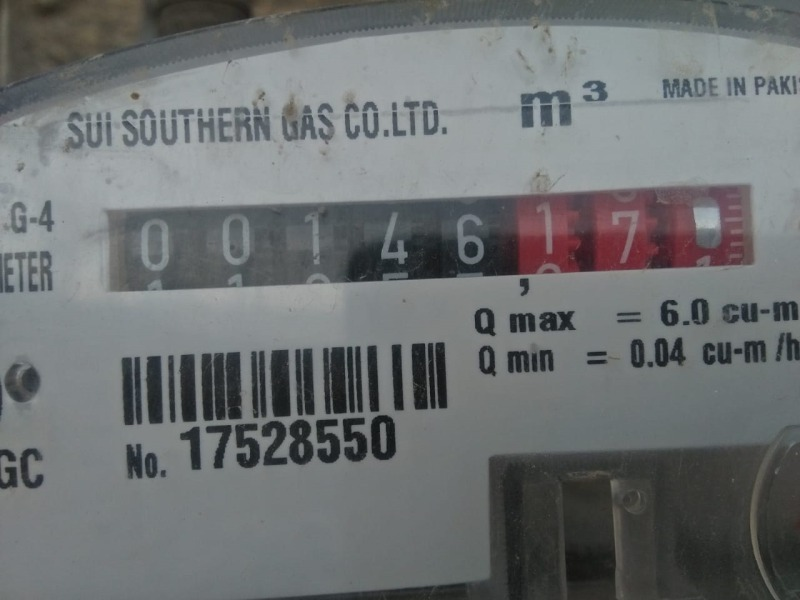ssgc: (103, 186, 760, 282)
